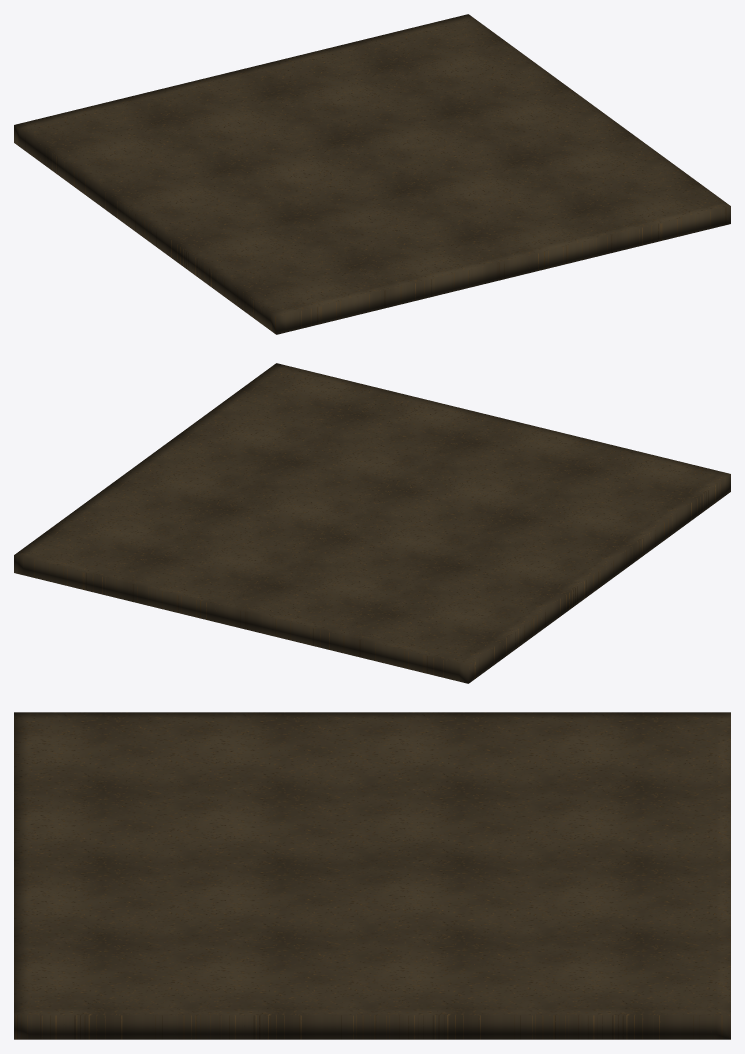
Rendered from GF2_Ground_WornTrail_32.fbx.
3 renders of one model, top to bottom at view 1: azimuth 30°, elevation 25°; view 2: azimuth 150°, elevation 25°; view 3: azimuth 270°, elevation 25°, orthographic. The views are drawn at different scales.
Parts seen in each view (by area): view 1: GF2_Ground_WornTrail_32.001; view 2: GF2_Ground_WornTrail_32.001; view 3: GF2_Ground_WornTrail_32.001.
Part boxes in pixels (box(x1,y1,x2,y2)): GF2_Ground_WornTrail_32.001: box(14, 14, 730, 334); GF2_Ground_WornTrail_32.001: box(14, 363, 730, 683); GF2_Ground_WornTrail_32.001: box(14, 712, 730, 1039).
Bounding box in the file's own units: 32 × 1.45 × 32.
Materials: 1 (1 with a texture image).
